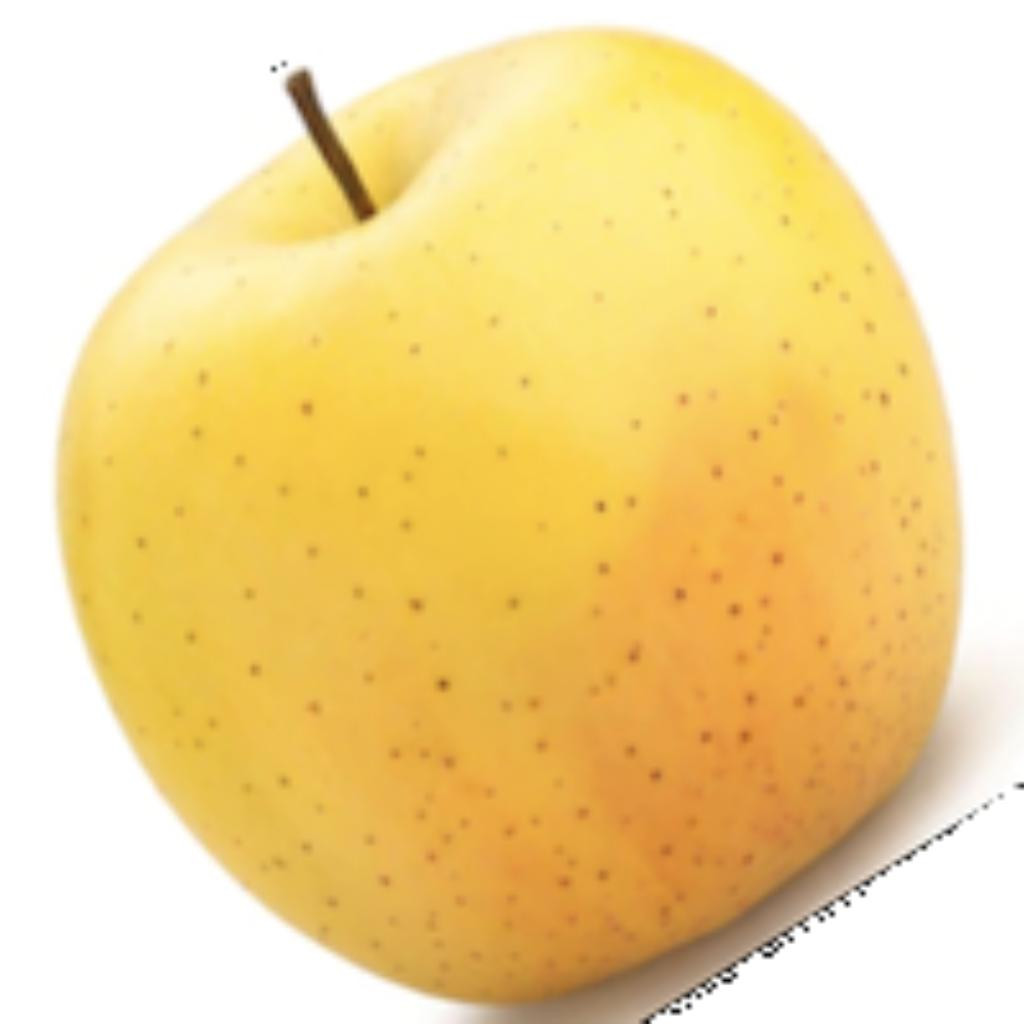apple: (46, 15, 1014, 1019)
